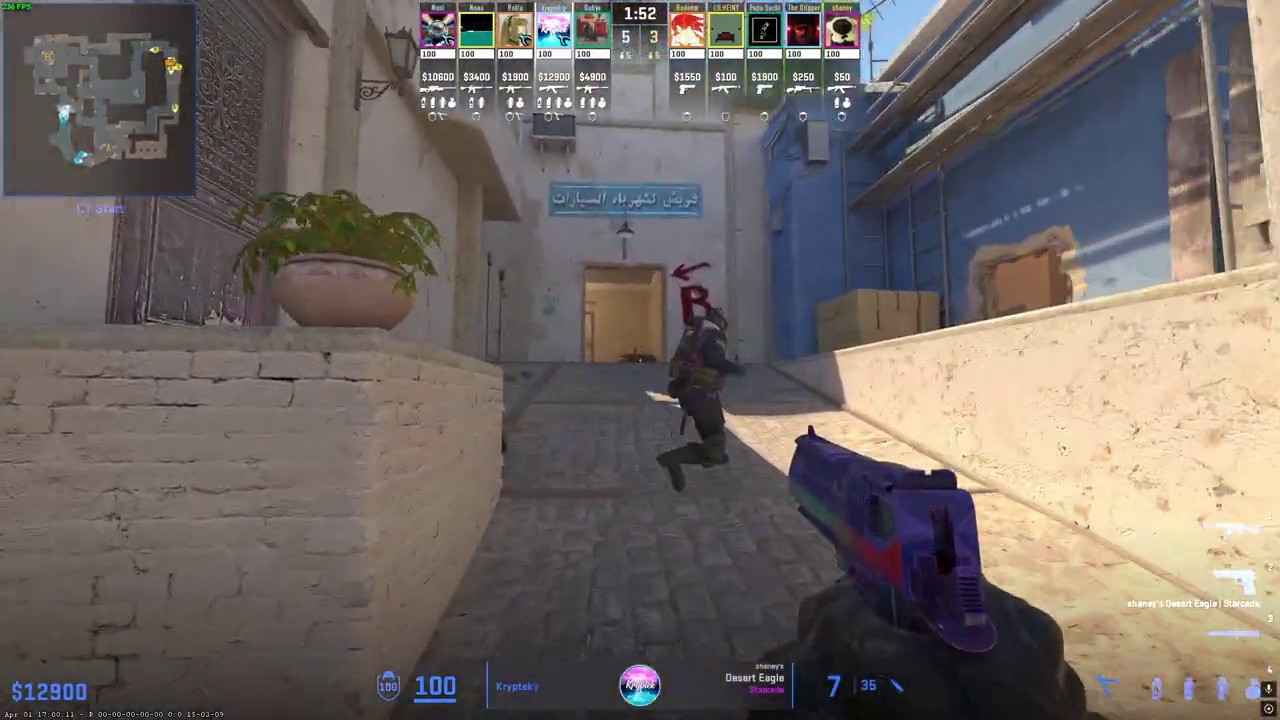CT: (659, 307, 742, 493)
